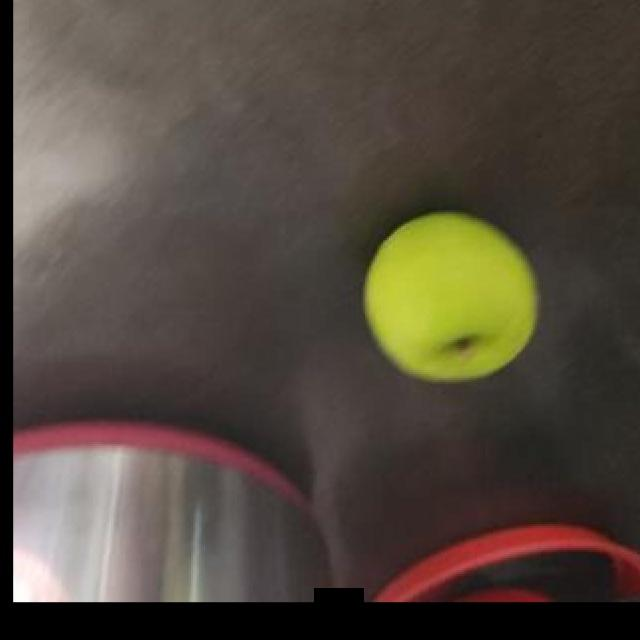green apple: (358, 208, 540, 384)
